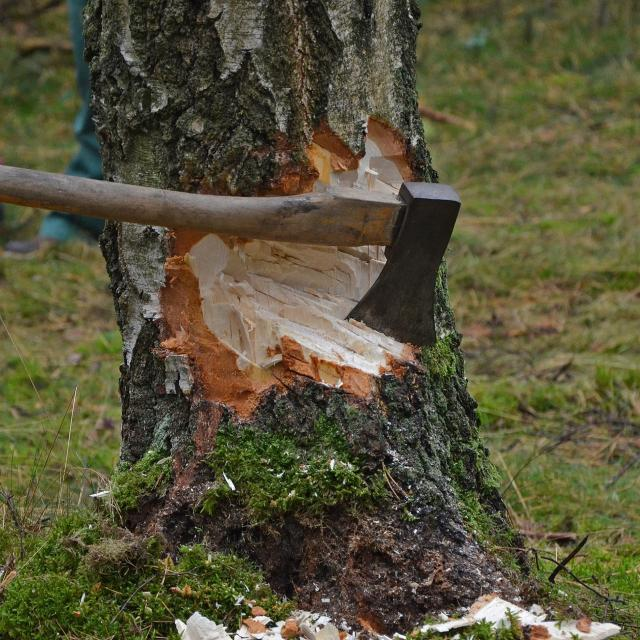Axe: (0, 166, 460, 346)
